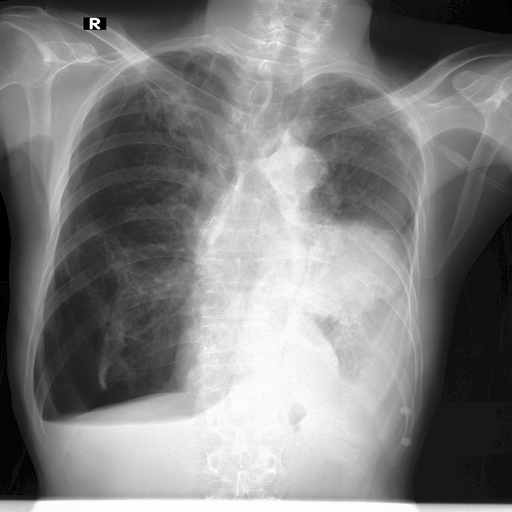Atelectasis: (24, 40, 236, 434), (14, 246, 157, 420)
Calcification: (25, 409, 60, 446)
Consolidation: (270, 146, 330, 187)
Infiltration: (149, 50, 215, 147)
Pleural effusion: (311, 218, 439, 417), (42, 422, 177, 453), (25, 409, 60, 446)
Pleural thickening: (89, 215, 181, 386), (315, 77, 404, 214)
Pneumothorax: (315, 77, 404, 214), (84, 235, 131, 388), (140, 54, 215, 138), (342, 104, 381, 135)
Pulmonary fibrosis: (296, 218, 407, 326)
